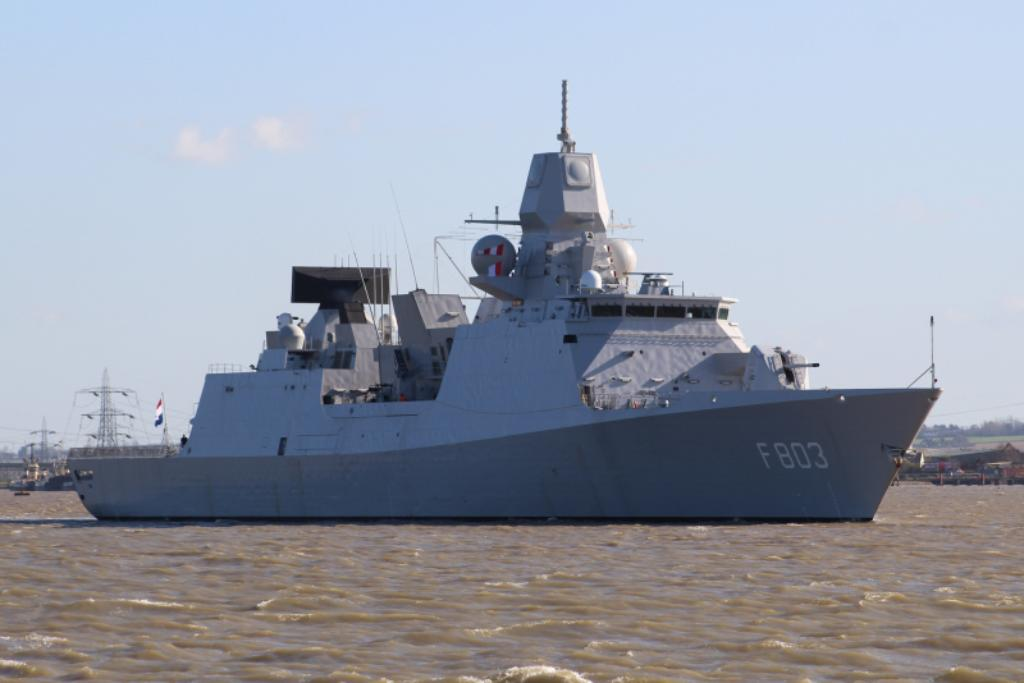Warship: (58, 75, 940, 533)
